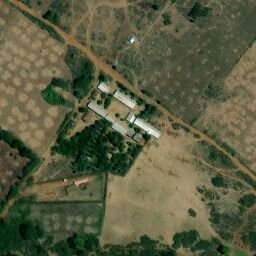tree: (142, 134, 151, 141), (78, 107, 87, 113), (134, 127, 141, 133), (97, 100, 103, 105), (115, 113, 120, 118)
